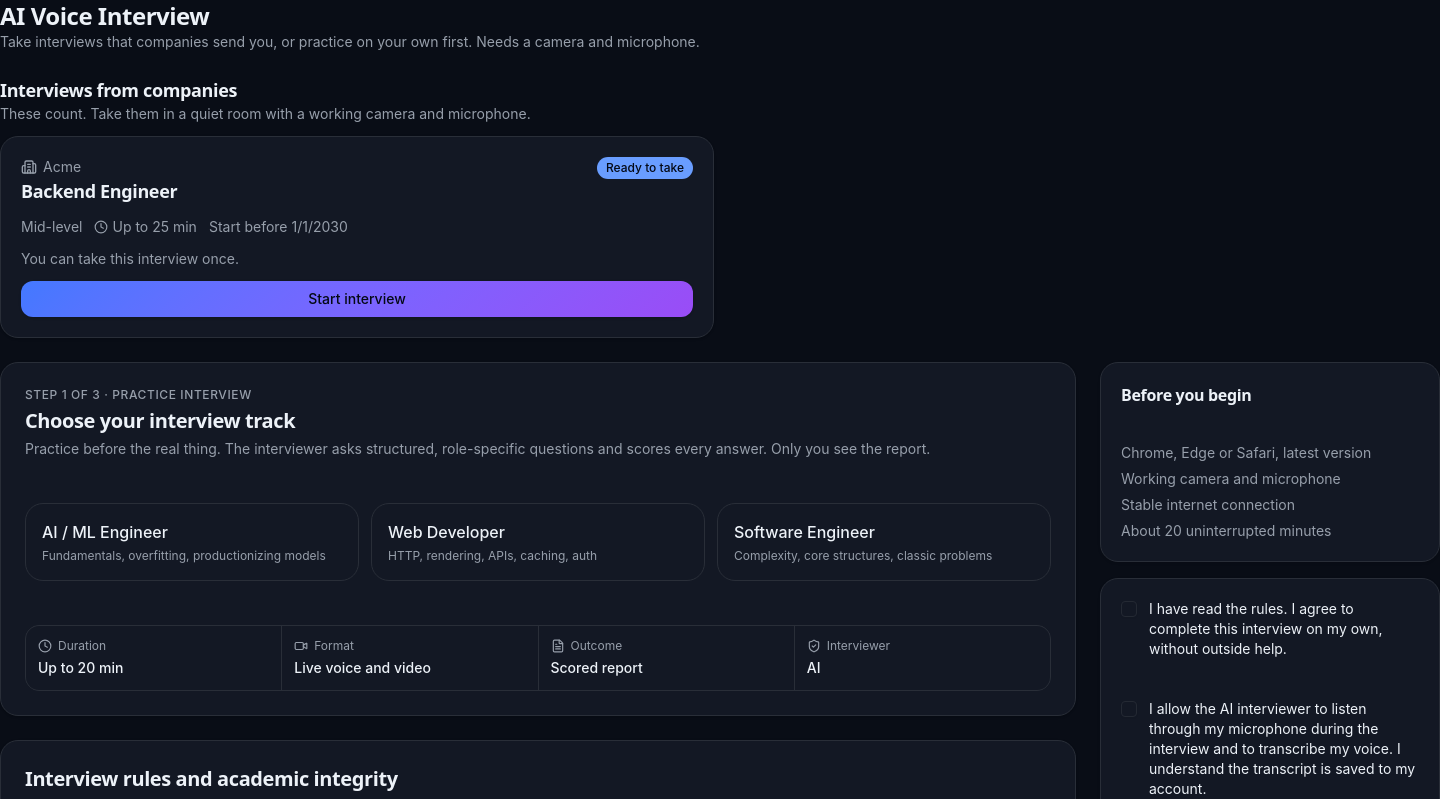
Scenario: AI Interview tab: company interviews beside practice › starting a company interview opens its briefing instead of the track picker, and can go back
Later steps or results of the test are not shown.
Click the button with aria-label "start the backend engineer interview for acme": (357, 299) [21,281,693,317]
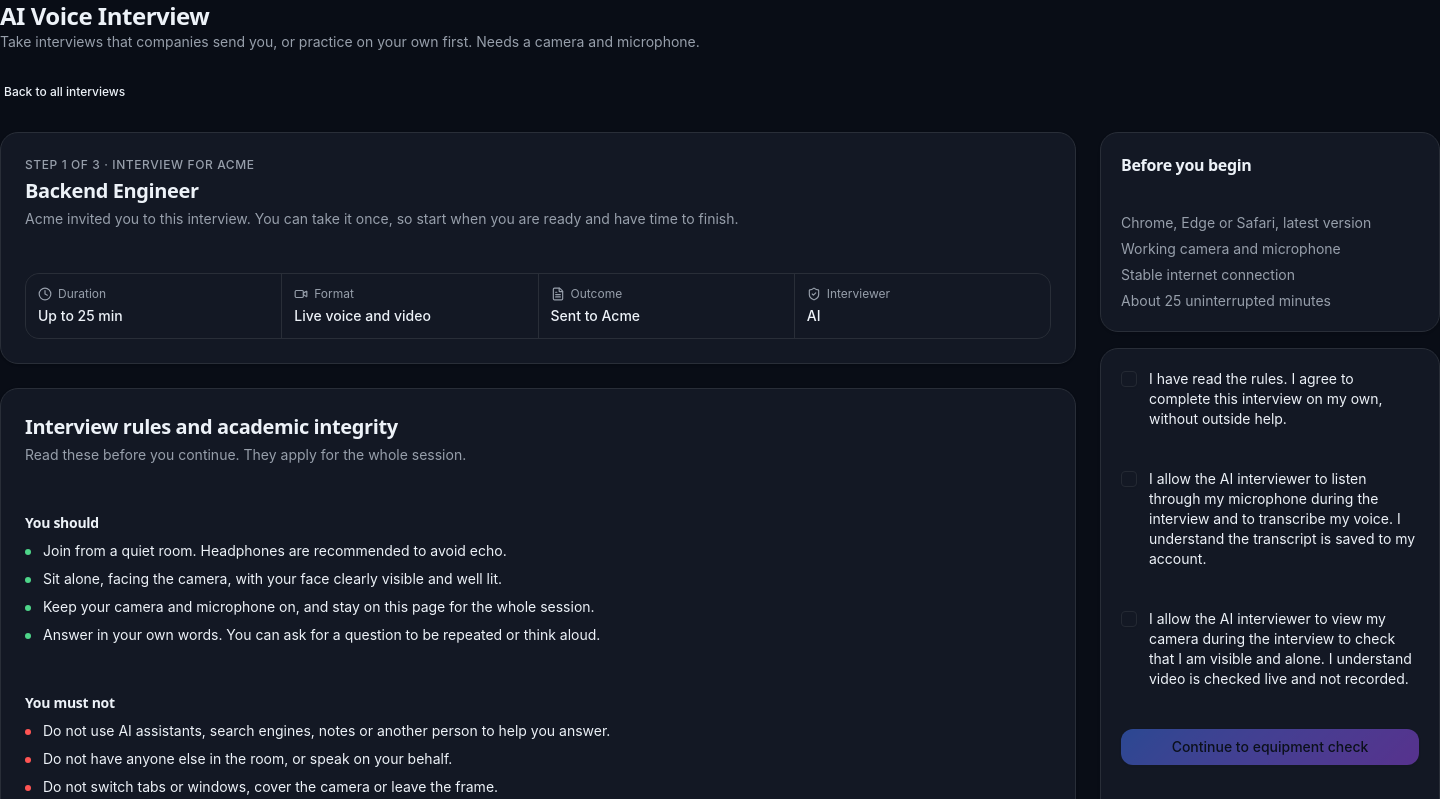
expect the text "Step 1 of 3 · Interview for Acme" is shown: met, box [25,157,255,172]
